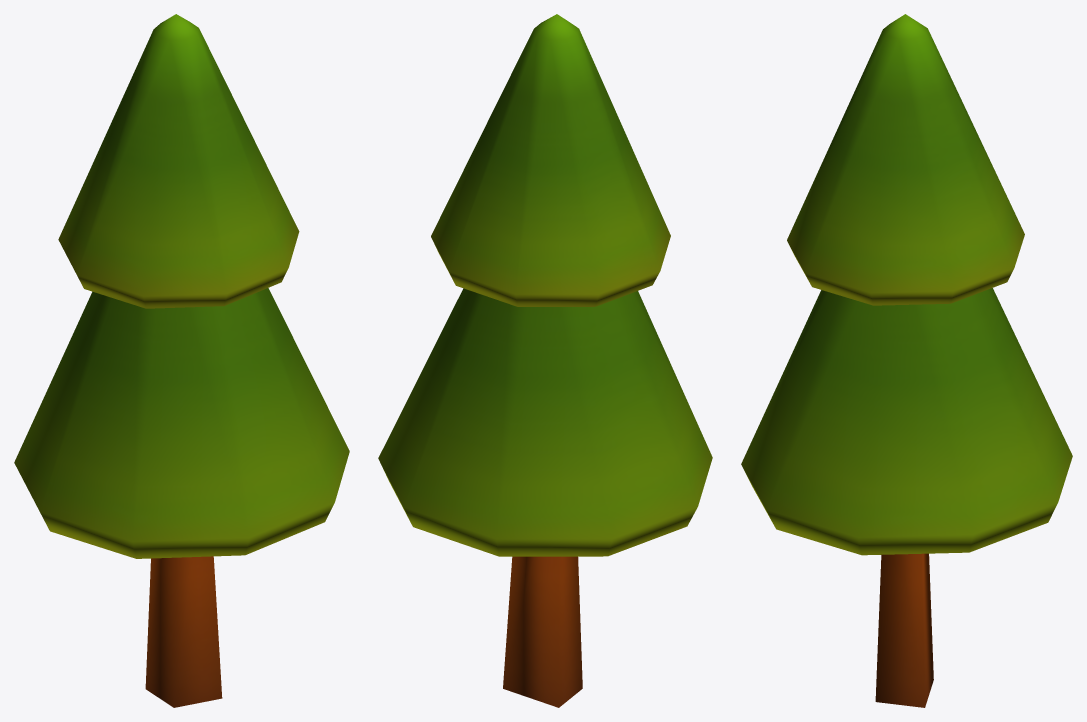
File: block_forest_2_4.fbx
3 renders of one model, left to right at view 1: azimuth 30°, elevation 25°; view 2: azimuth 150°, elevation 25°; view 3: azimuth 270°, elevation 25°, orthographic.
Parts seen in each view (by area): view 1: block_forest_2_4; view 2: block_forest_2_4; view 3: block_forest_2_4.
Boxes of the visible parts, x1,y1,x2,y2 form: block_forest_2_4: (14, 14, 349, 707); block_forest_2_4: (378, 14, 712, 707); block_forest_2_4: (741, 14, 1072, 707).
Size of the model in its own units: 50.51 by 114 by 50.87.
